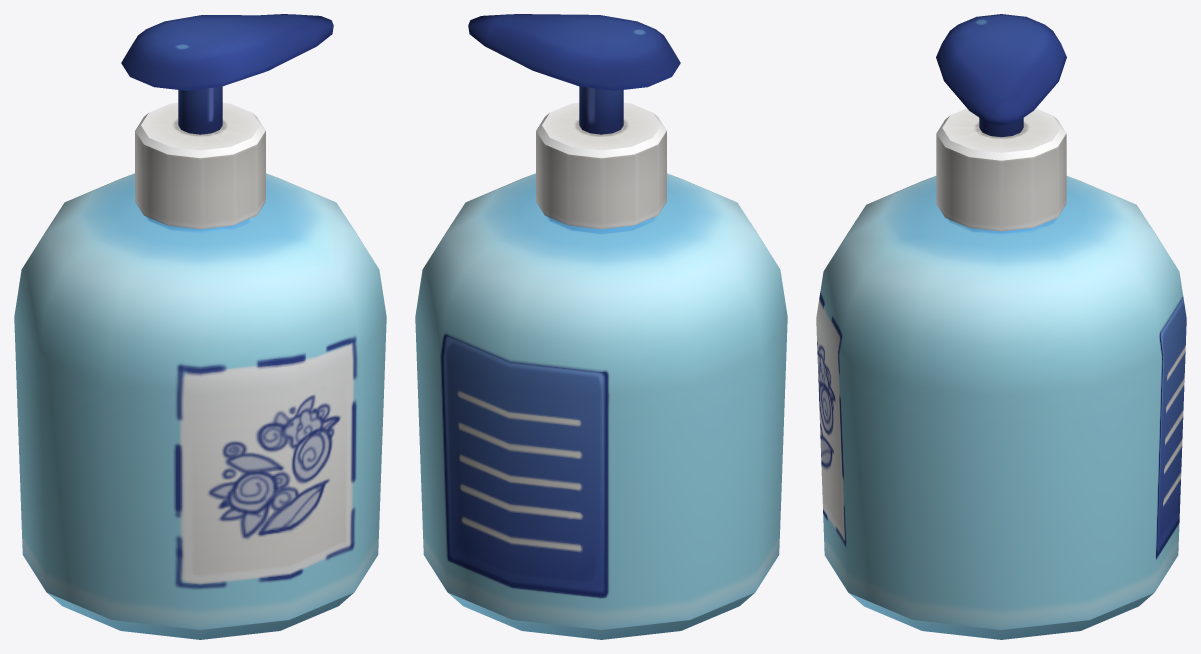
The model's file is bathroom_soap_bottle.fbx.
3 views of the same model, side by side, from view 1: azimuth 30°, elevation 25°; view 2: azimuth 150°, elevation 25°; view 3: azimuth 270°, elevation 25° (orthographic).
Parts seen in each view (by area): view 1: bathroom_soap_bottle; view 2: bathroom_soap_bottle; view 3: bathroom_soap_bottle.
Boxes of the visible parts, box(x1,y1,x2,y2) form: bathroom_soap_bottle: box(14, 14, 386, 639); bathroom_soap_bottle: box(415, 14, 787, 639); bathroom_soap_bottle: box(816, 14, 1186, 639).
Size of the model in its own units: 14.76 by 23.6 by 14.76.
